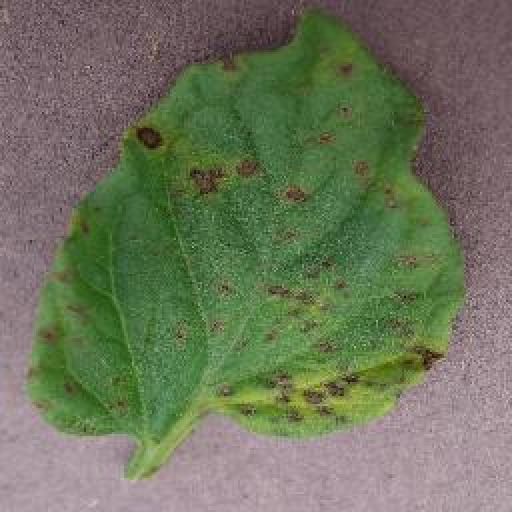disease_tomato: (31, 6, 468, 440)
